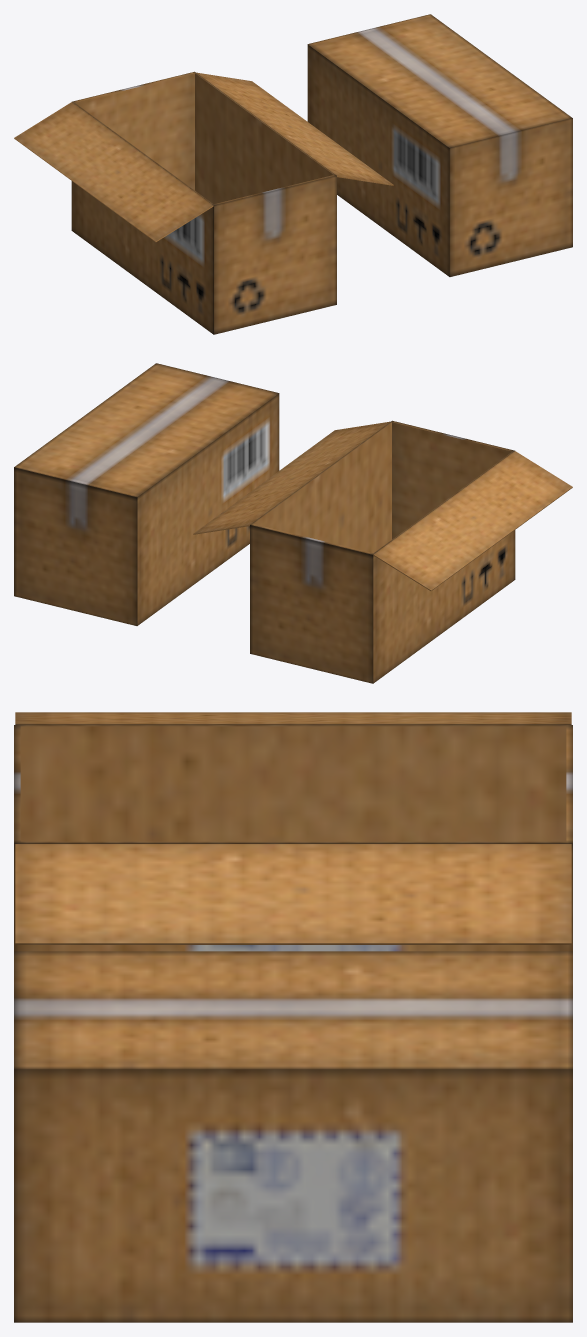
File: cardboard_box_psx.glb
The picture shows the model from 3 angles, top to bottom: view 1: azimuth 30°, elevation 25°; view 2: azimuth 150°, elevation 25°; view 3: azimuth 270°, elevation 25°; orthographic projection. The views are drawn at different scales.
Size of the model in its own units: 6.74 by 1.99 by 3.98.
1 material, 1 textured.
